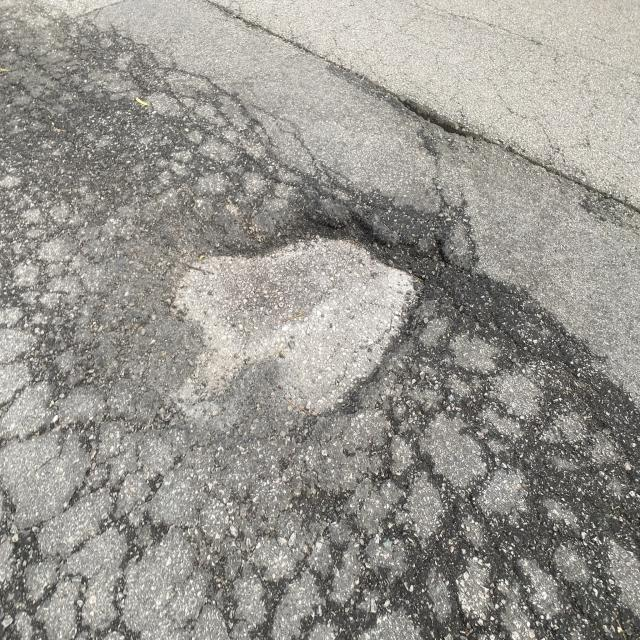pothole: (214, 168, 472, 359), (380, 53, 481, 154)
